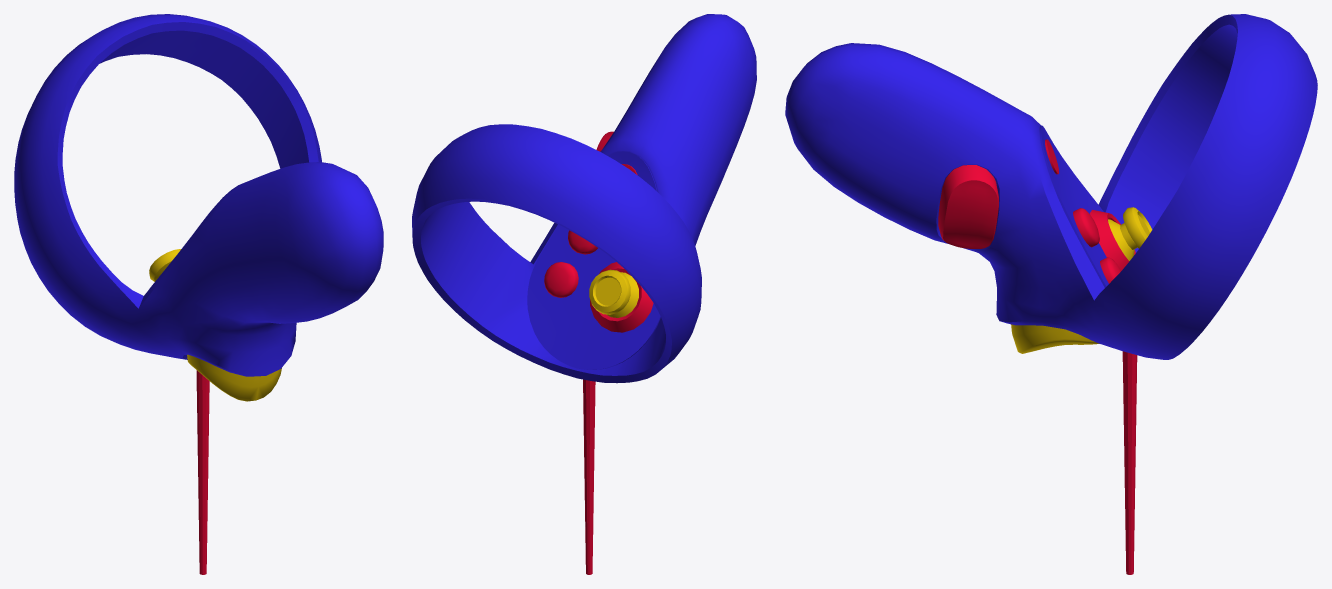
File: controller.glb
3 renders of one model, left to right at view 1: azimuth 30°, elevation 25°; view 2: azimuth 150°, elevation 25°; view 3: azimuth 270°, elevation 25°, orthographic. The views are drawn at different scales.
Parts seen in each view (by area): view 1: Root Node; view 2: Root Node; view 3: Root Node.
Boxes of the visible parts, x1=… form: Root Node: x1=14, y1=14, x2=383, y2=574; Root Node: x1=412, y1=14, x2=756, y2=574; Root Node: x1=785, y1=14, x2=1317, y2=574.
Size of the model in its own units: 0.0918 by 0.1571 by 0.1398.
